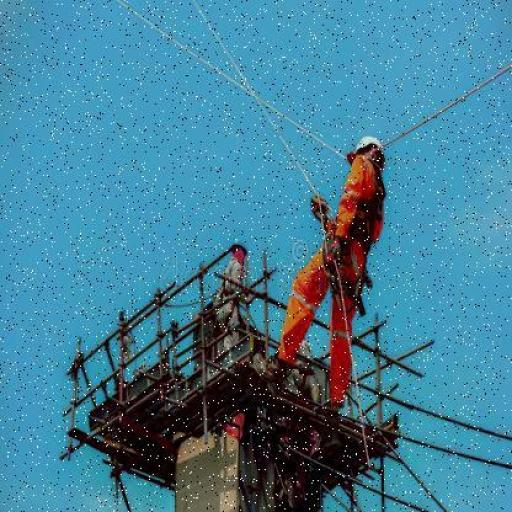person: (263, 103, 391, 471)
safety_shoe: (253, 349, 287, 399), (314, 409, 340, 460)
